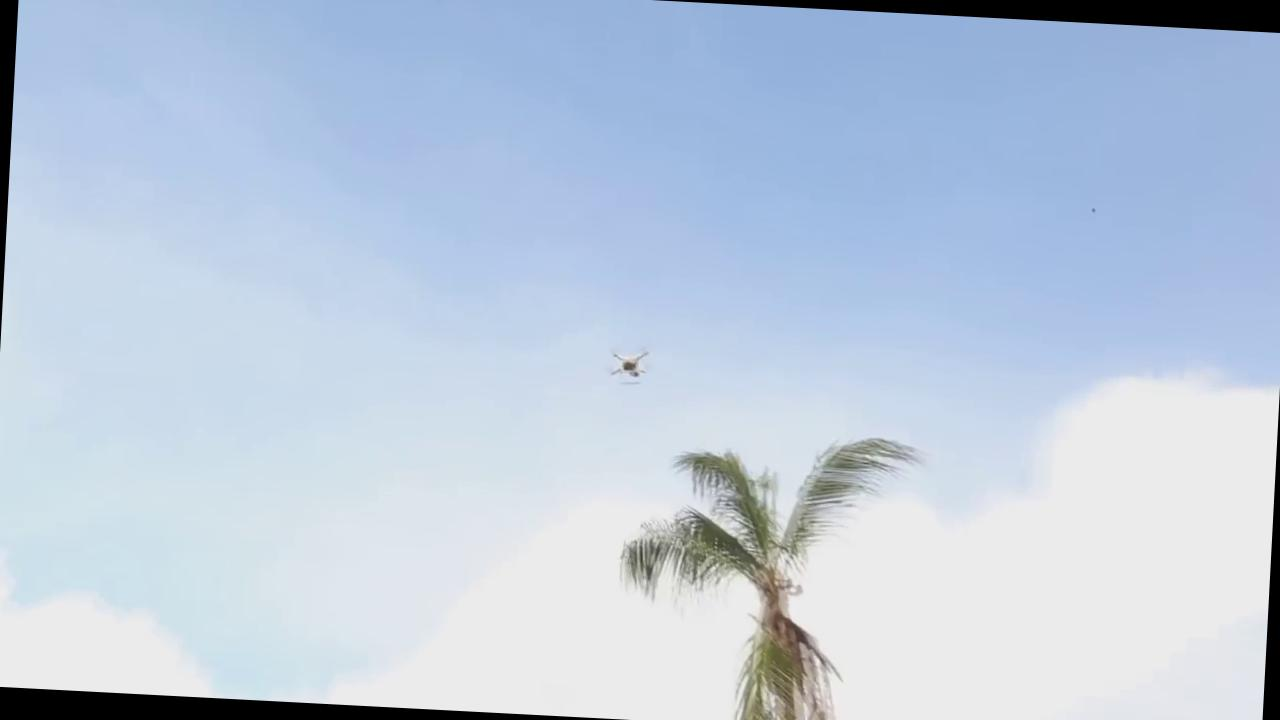drone: (604, 344, 656, 393)
